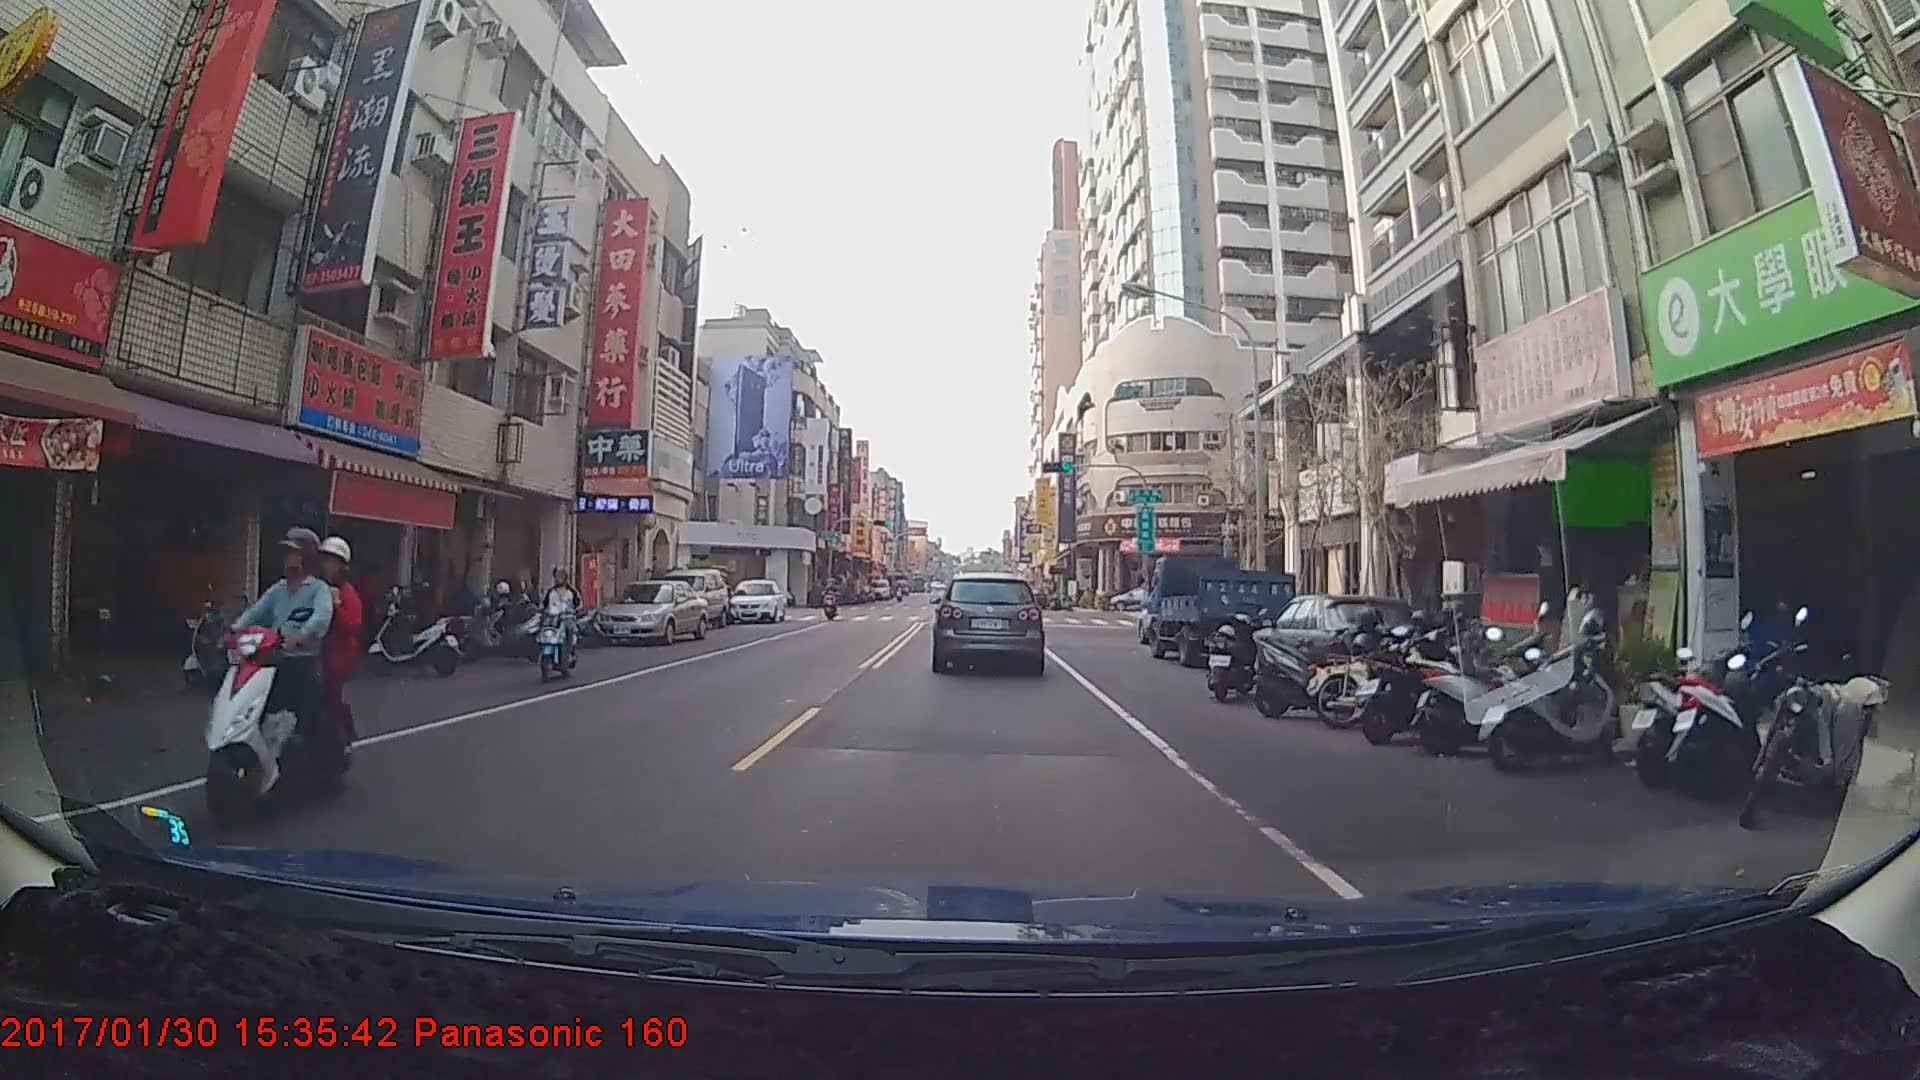rider: (184, 527, 359, 818), (537, 567, 590, 683), (822, 580, 842, 626)
vehicle: (1144, 551, 1297, 668), (934, 570, 1043, 673), (589, 578, 710, 646), (654, 565, 733, 630), (728, 576, 787, 624), (1105, 584, 1168, 610)
